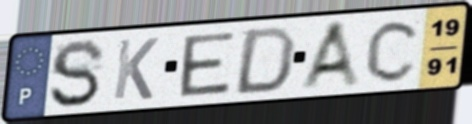A: (297, 18, 365, 91)
C: (363, 17, 424, 85)
D: (230, 24, 300, 97)
E: (178, 29, 238, 99)
K: (110, 36, 161, 102)
S: (47, 37, 108, 110)
